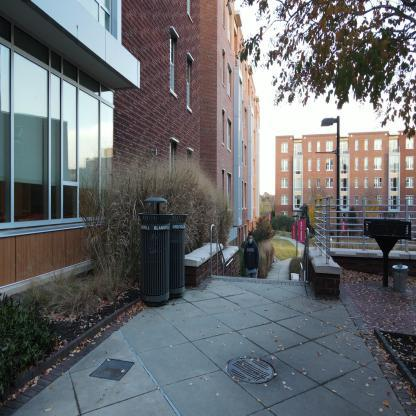Wolf Ridge: (0, 0, 413, 312)
